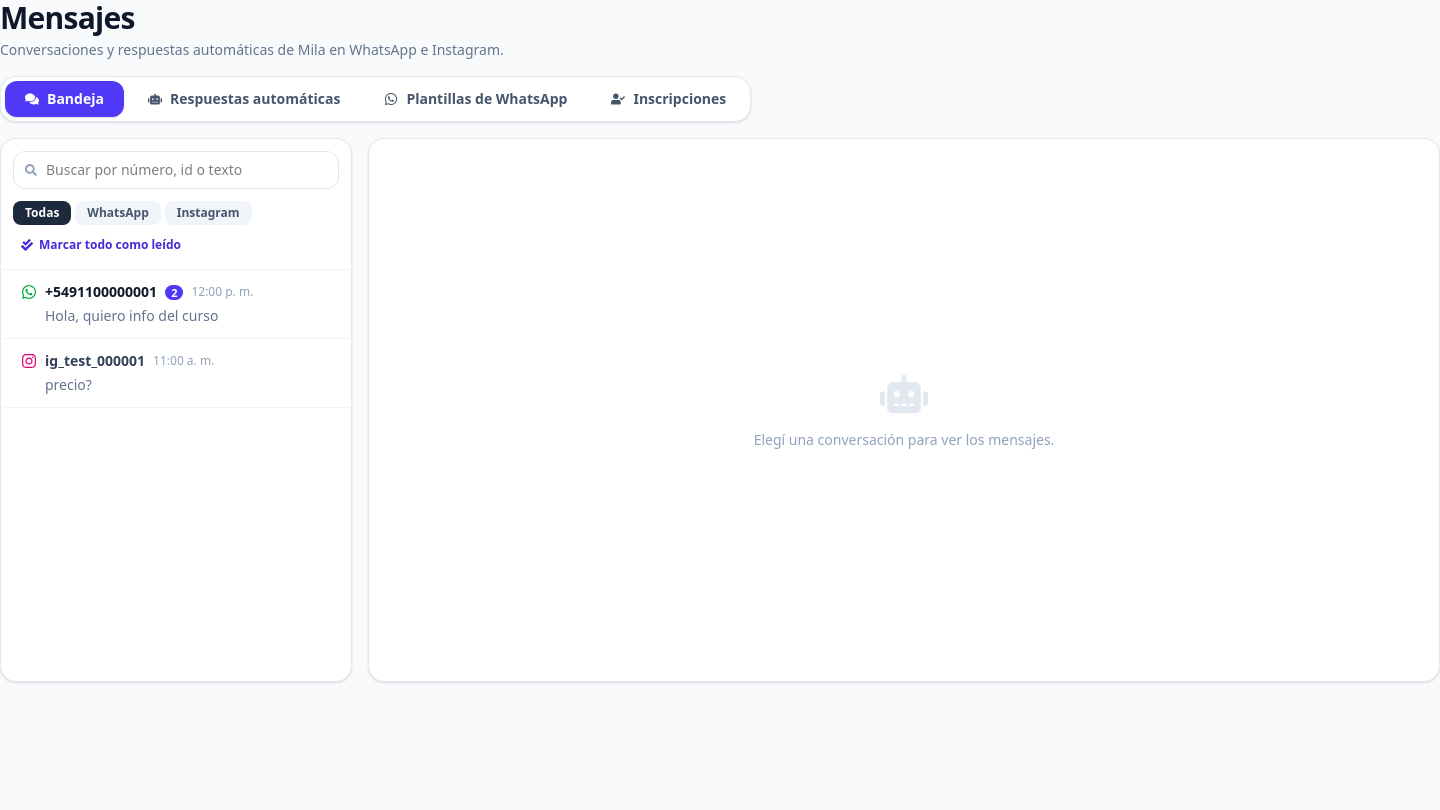
Test case: BotMessagePage › drafts and stale actions › does not empty another conversation when a clear finishes after switching
Click the button "+5491100000001 2 12:00 p. m. Hola, quiero info del curso".
click(176, 304)  # box [1,270,351,339]
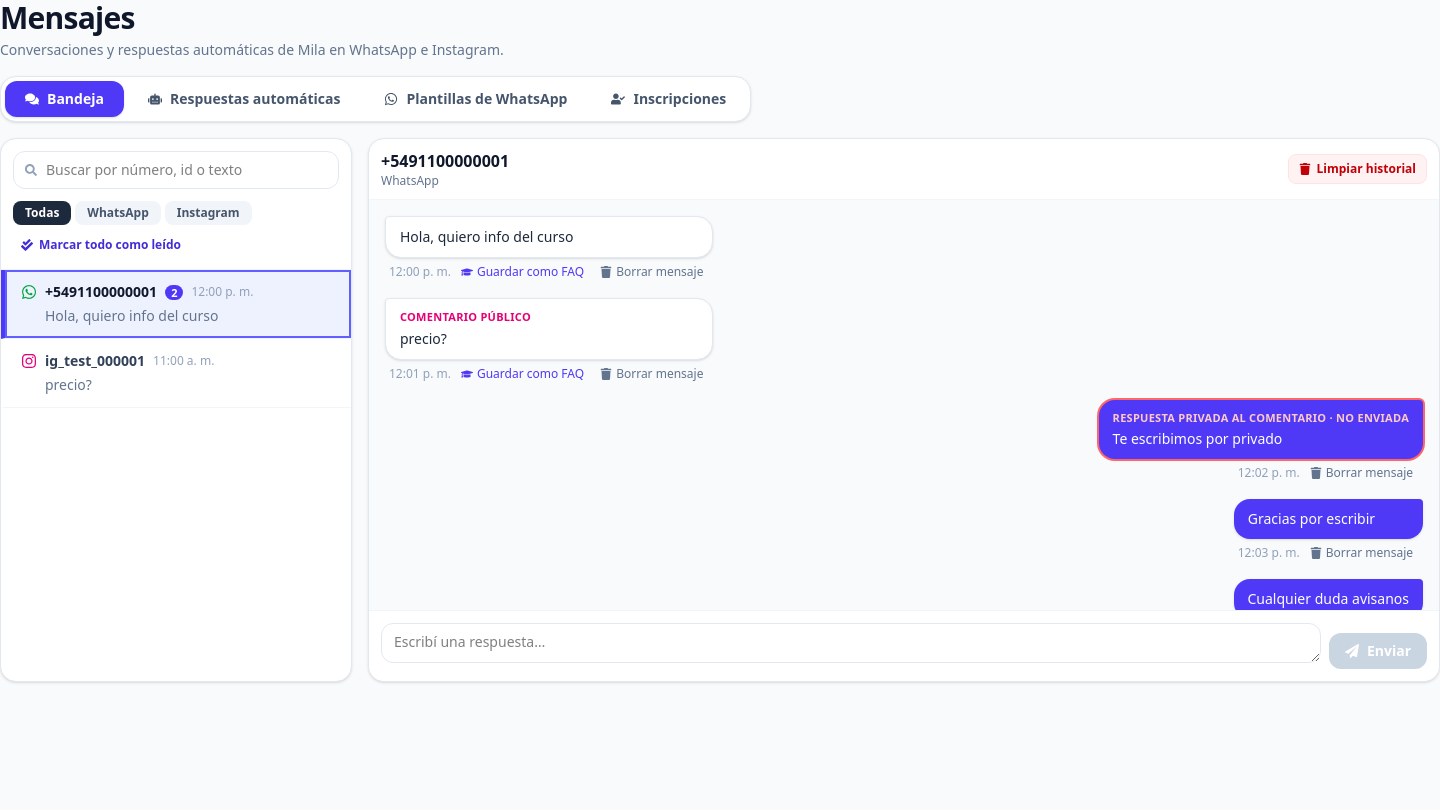
Check: the text "Te escribimos por privado" is shown, box [1113,429,1282,448]
Click the button "Limpiar historial".
click(1357, 169)  # box [1288,154,1427,184]
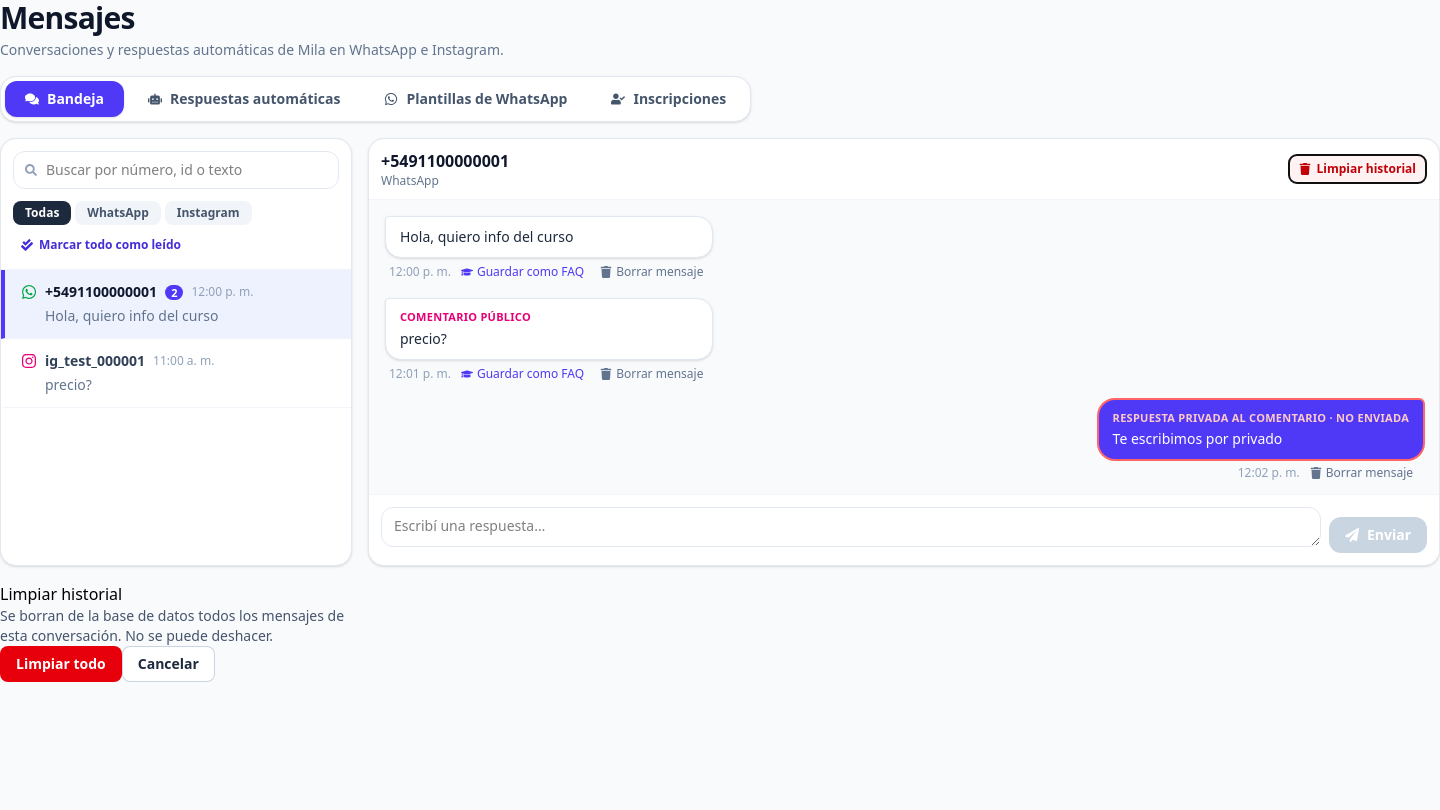
Click the button "Limpiar todo".
click(61, 664)  # box [0,646,122,682]
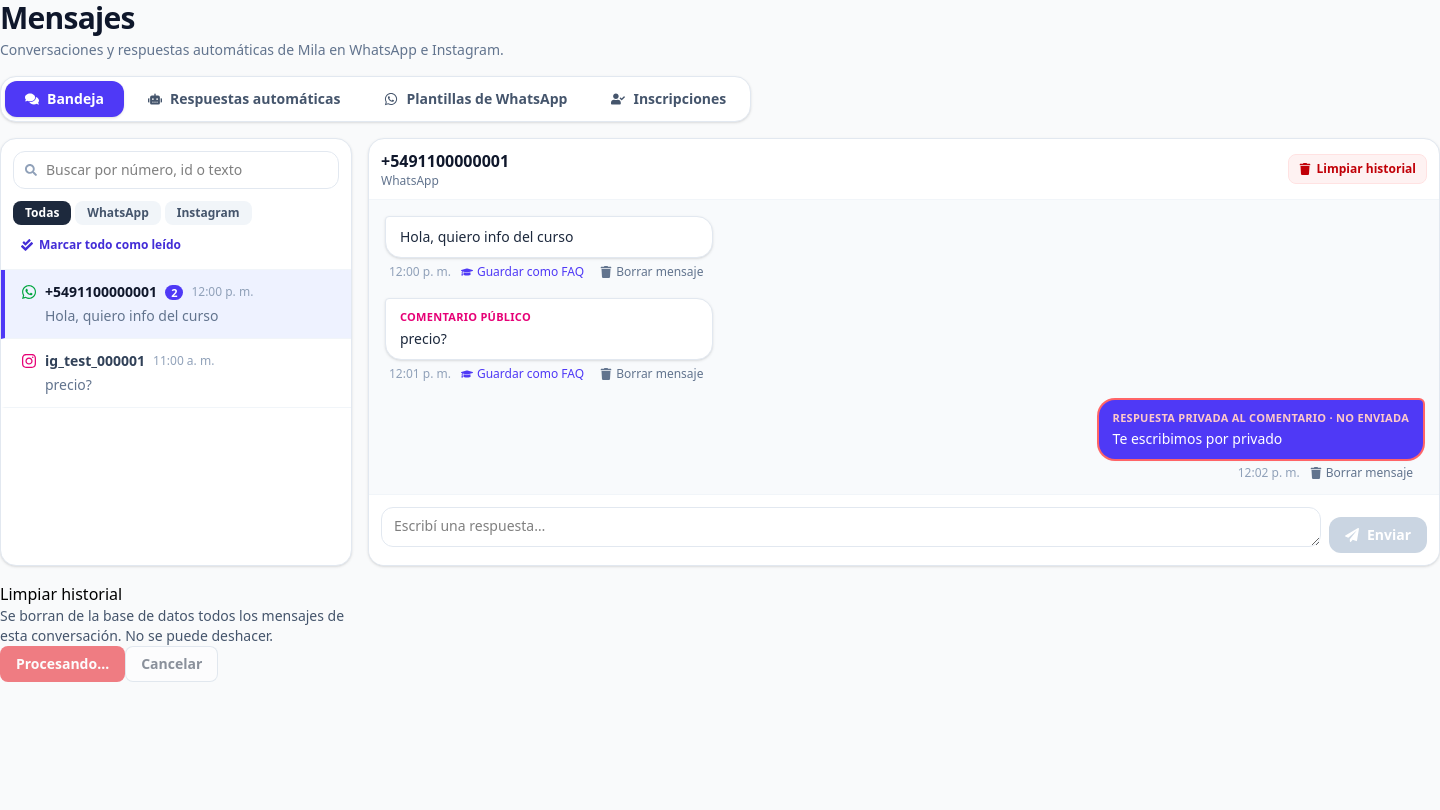
Click the button "ig_test_000001 11:00 a. m. precio?".
click(95, 360)  # box [1,339,351,408]
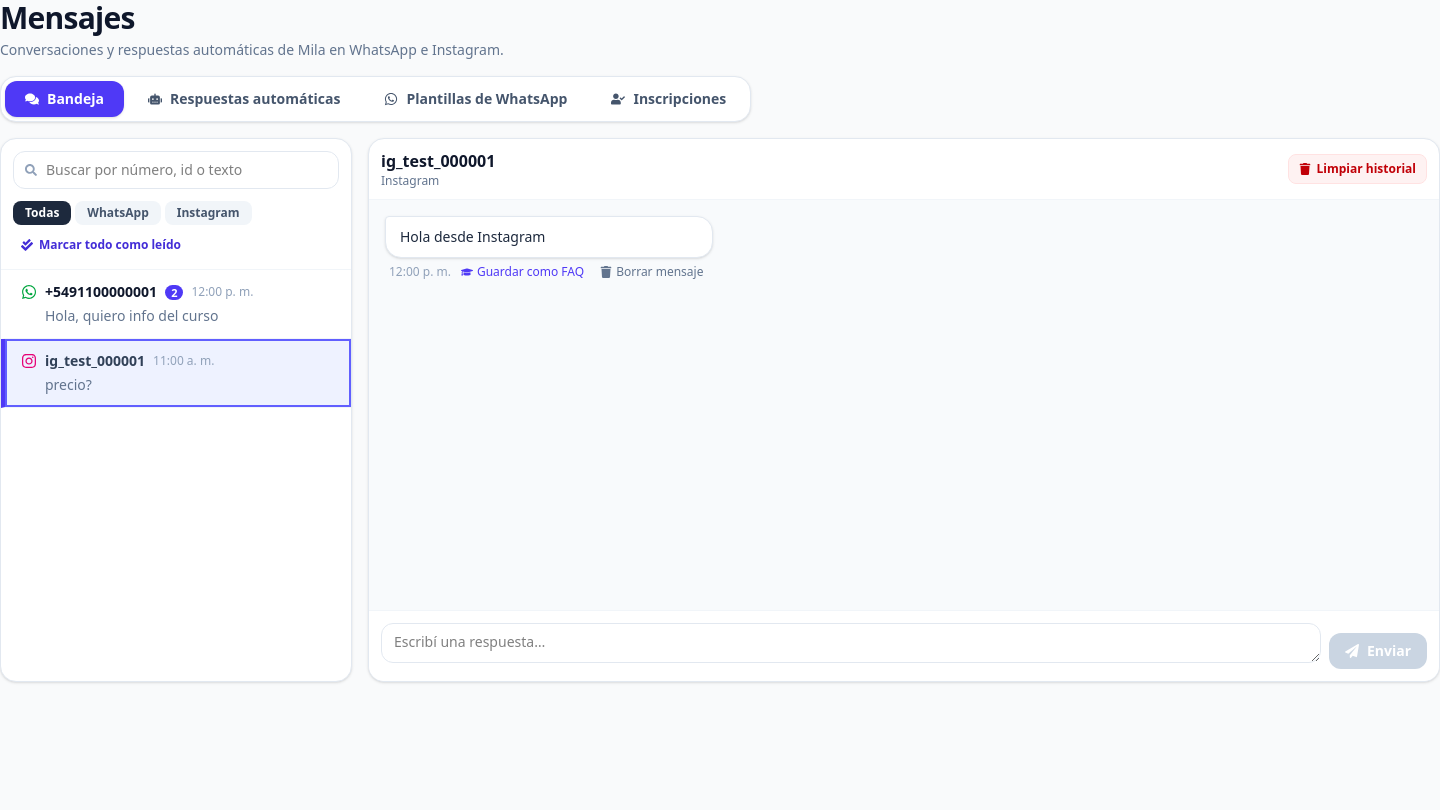
Check: the text "Hola desde Instagram" is shown, box [385,216,714,258]
